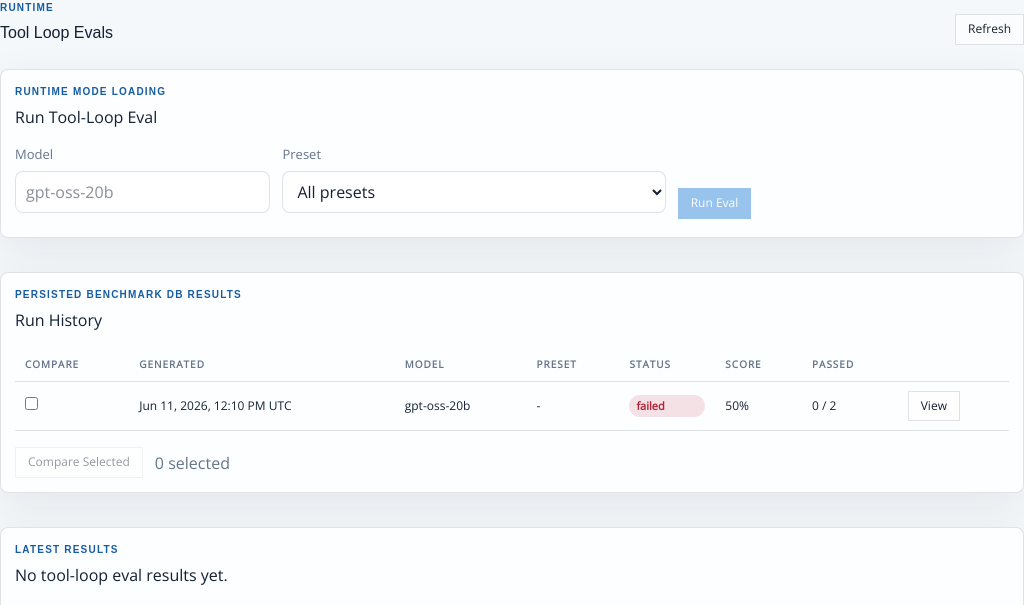
Test: summarizes failure buckets for the selected persisted run
Click the button with aria-label "View run gpt-oss-20b".
click(934, 406)  # box [908,390,960,421]
(page scrolled)
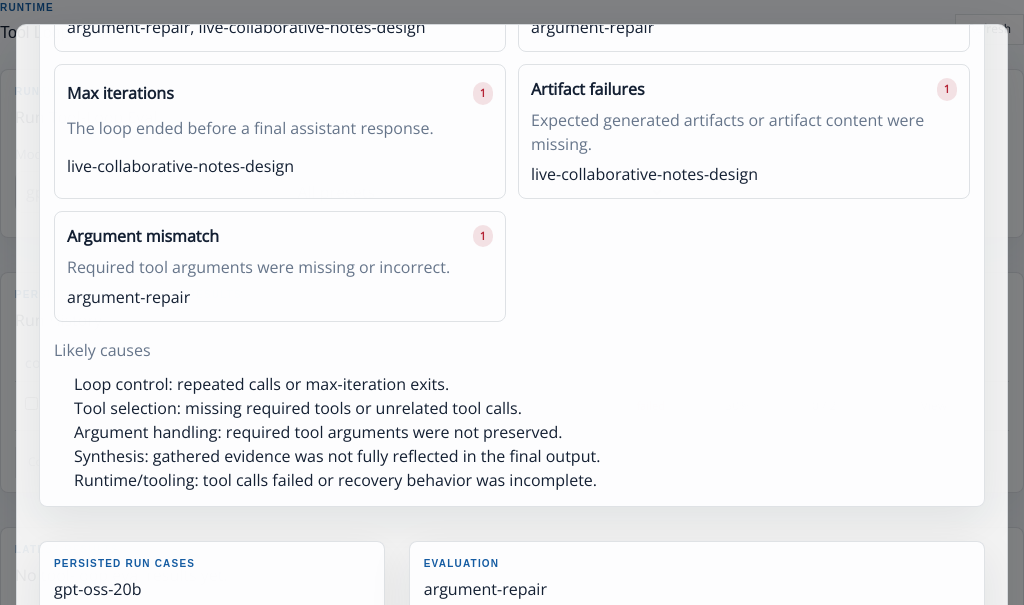
Expected: the text "Max iterations" is shown, [67,81,174,105]
Expected: the text "Argument mismatch" is shown, [67,224,219,248]
Expected: the list item "Tool selection: missing required tools or unrelated tool calls." is shown, [74,397,522,419]
